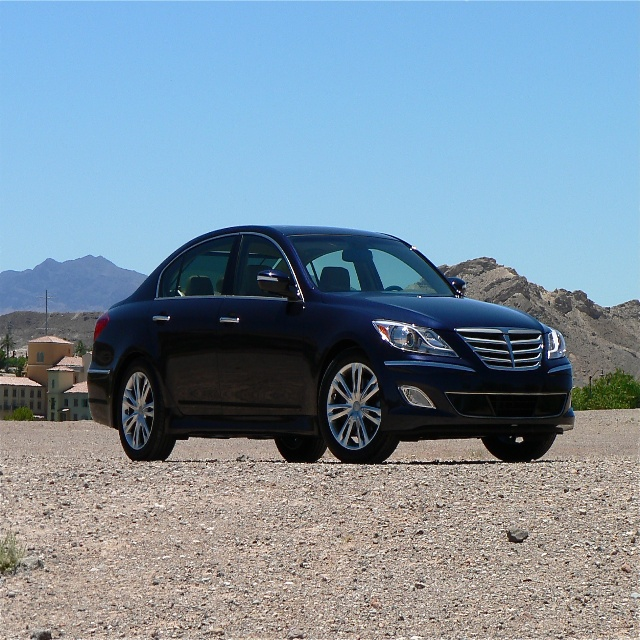Car: (88, 223, 576, 462)
